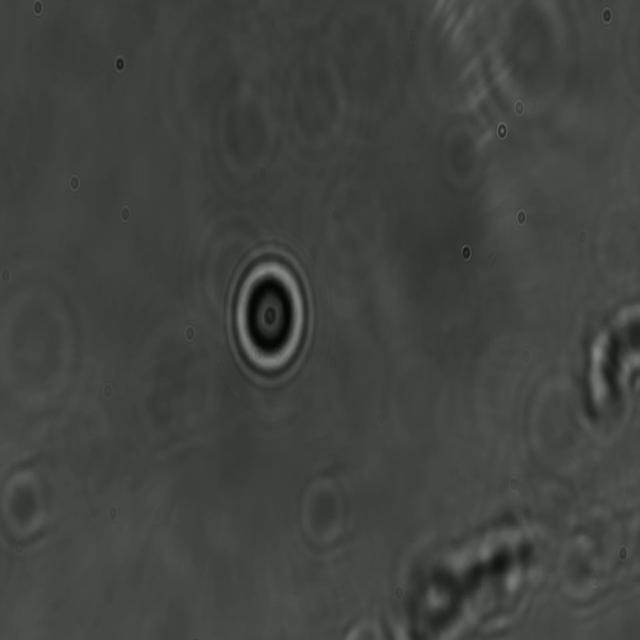LCELL: (219, 235, 317, 396)
